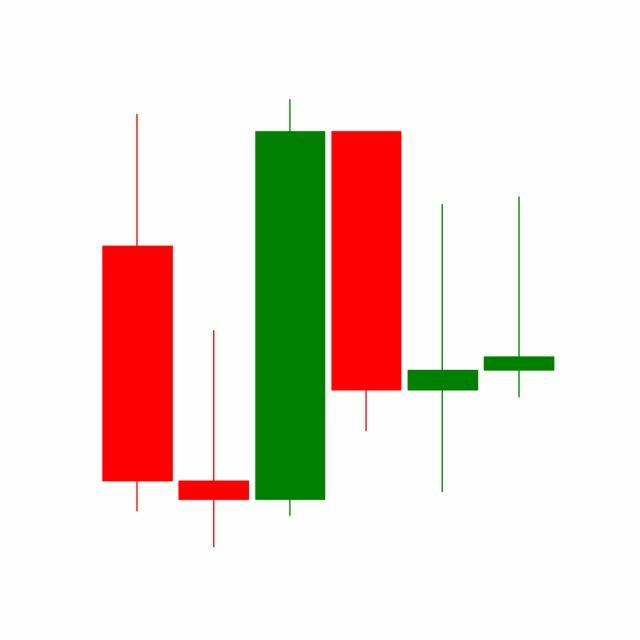Spinning Top: (404, 201, 482, 497)
